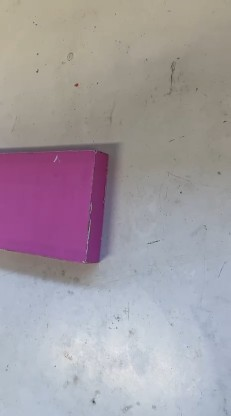pink: (0, 147, 123, 249)
